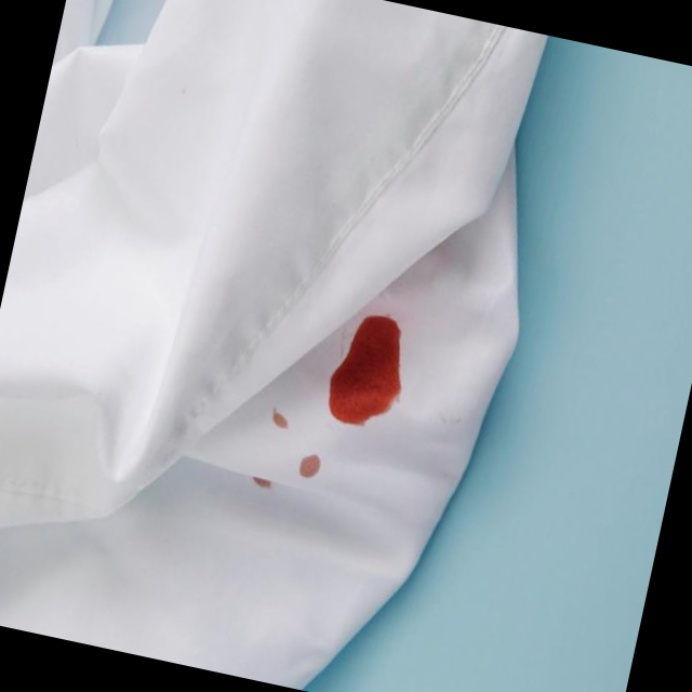blood: (315, 299, 422, 433), (245, 402, 336, 505)
